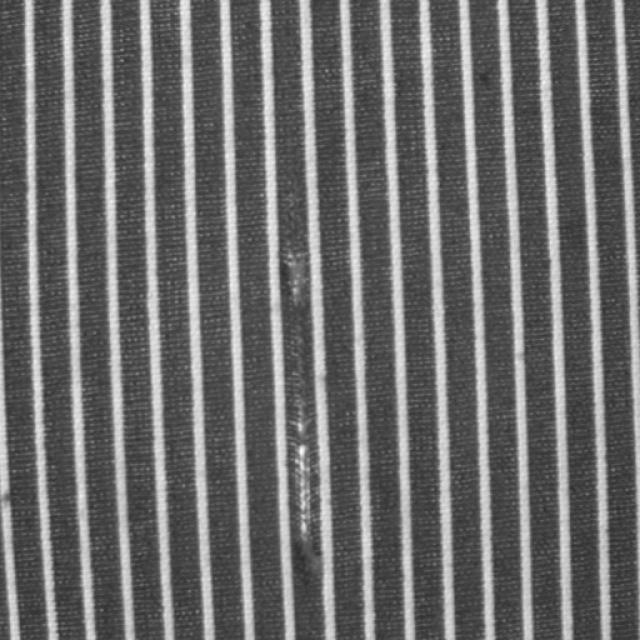Thread-Defect: (281, 250, 319, 569)
